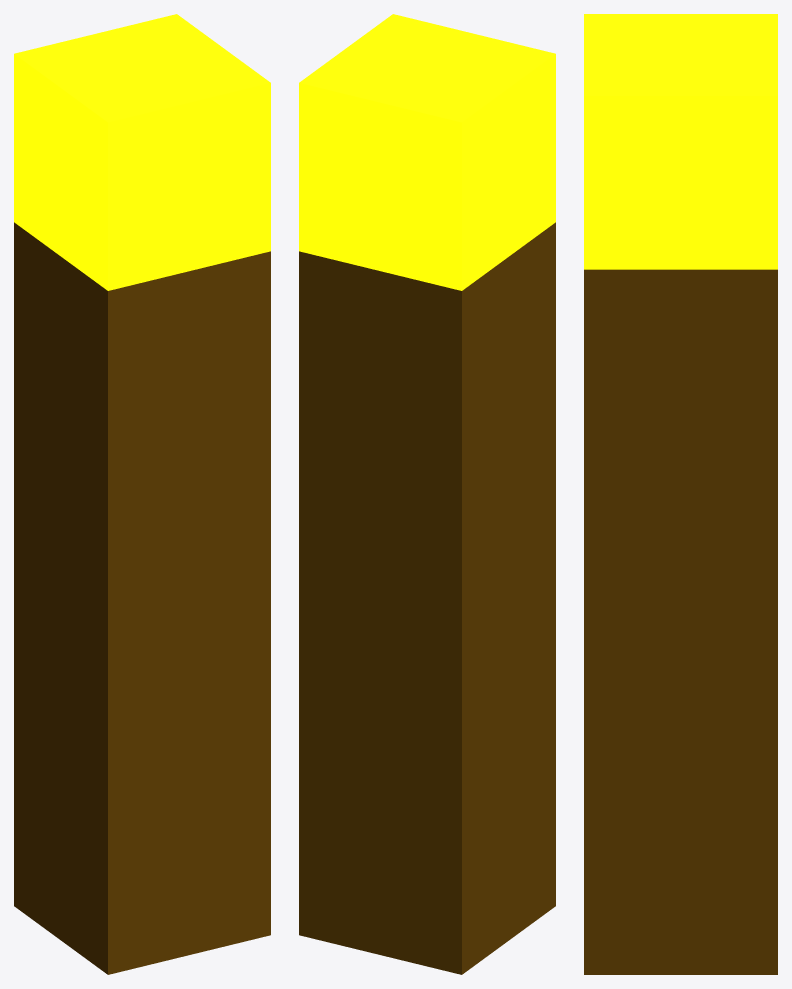
The model's file is Torche.fbx.
3 views of the same model, side by side, from view 1: azimuth 30°, elevation 25°; view 2: azimuth 150°, elevation 25°; view 3: azimuth 270°, elevation 25° (orthographic). The views are drawn at different scales.
Visible parts, largest first — view 1: pCube1; view 2: pCube1; view 3: pCube1.
Boxes of the visible parts, x1,y1,x2,y2 form: pCube1: (14, 14, 270, 974); pCube1: (299, 14, 555, 974); pCube1: (584, 14, 777, 974).
Bounding box in the file's own units: 0.2 × 1 × 0.2.
